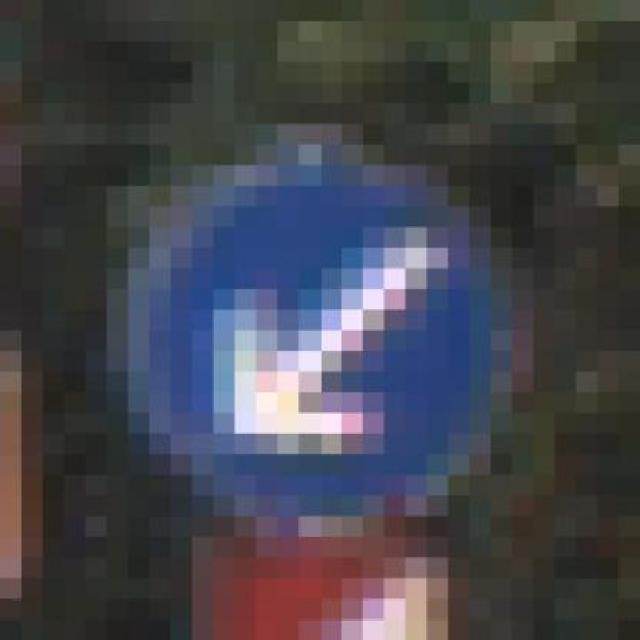Keep-Left: (107, 103, 555, 537)
